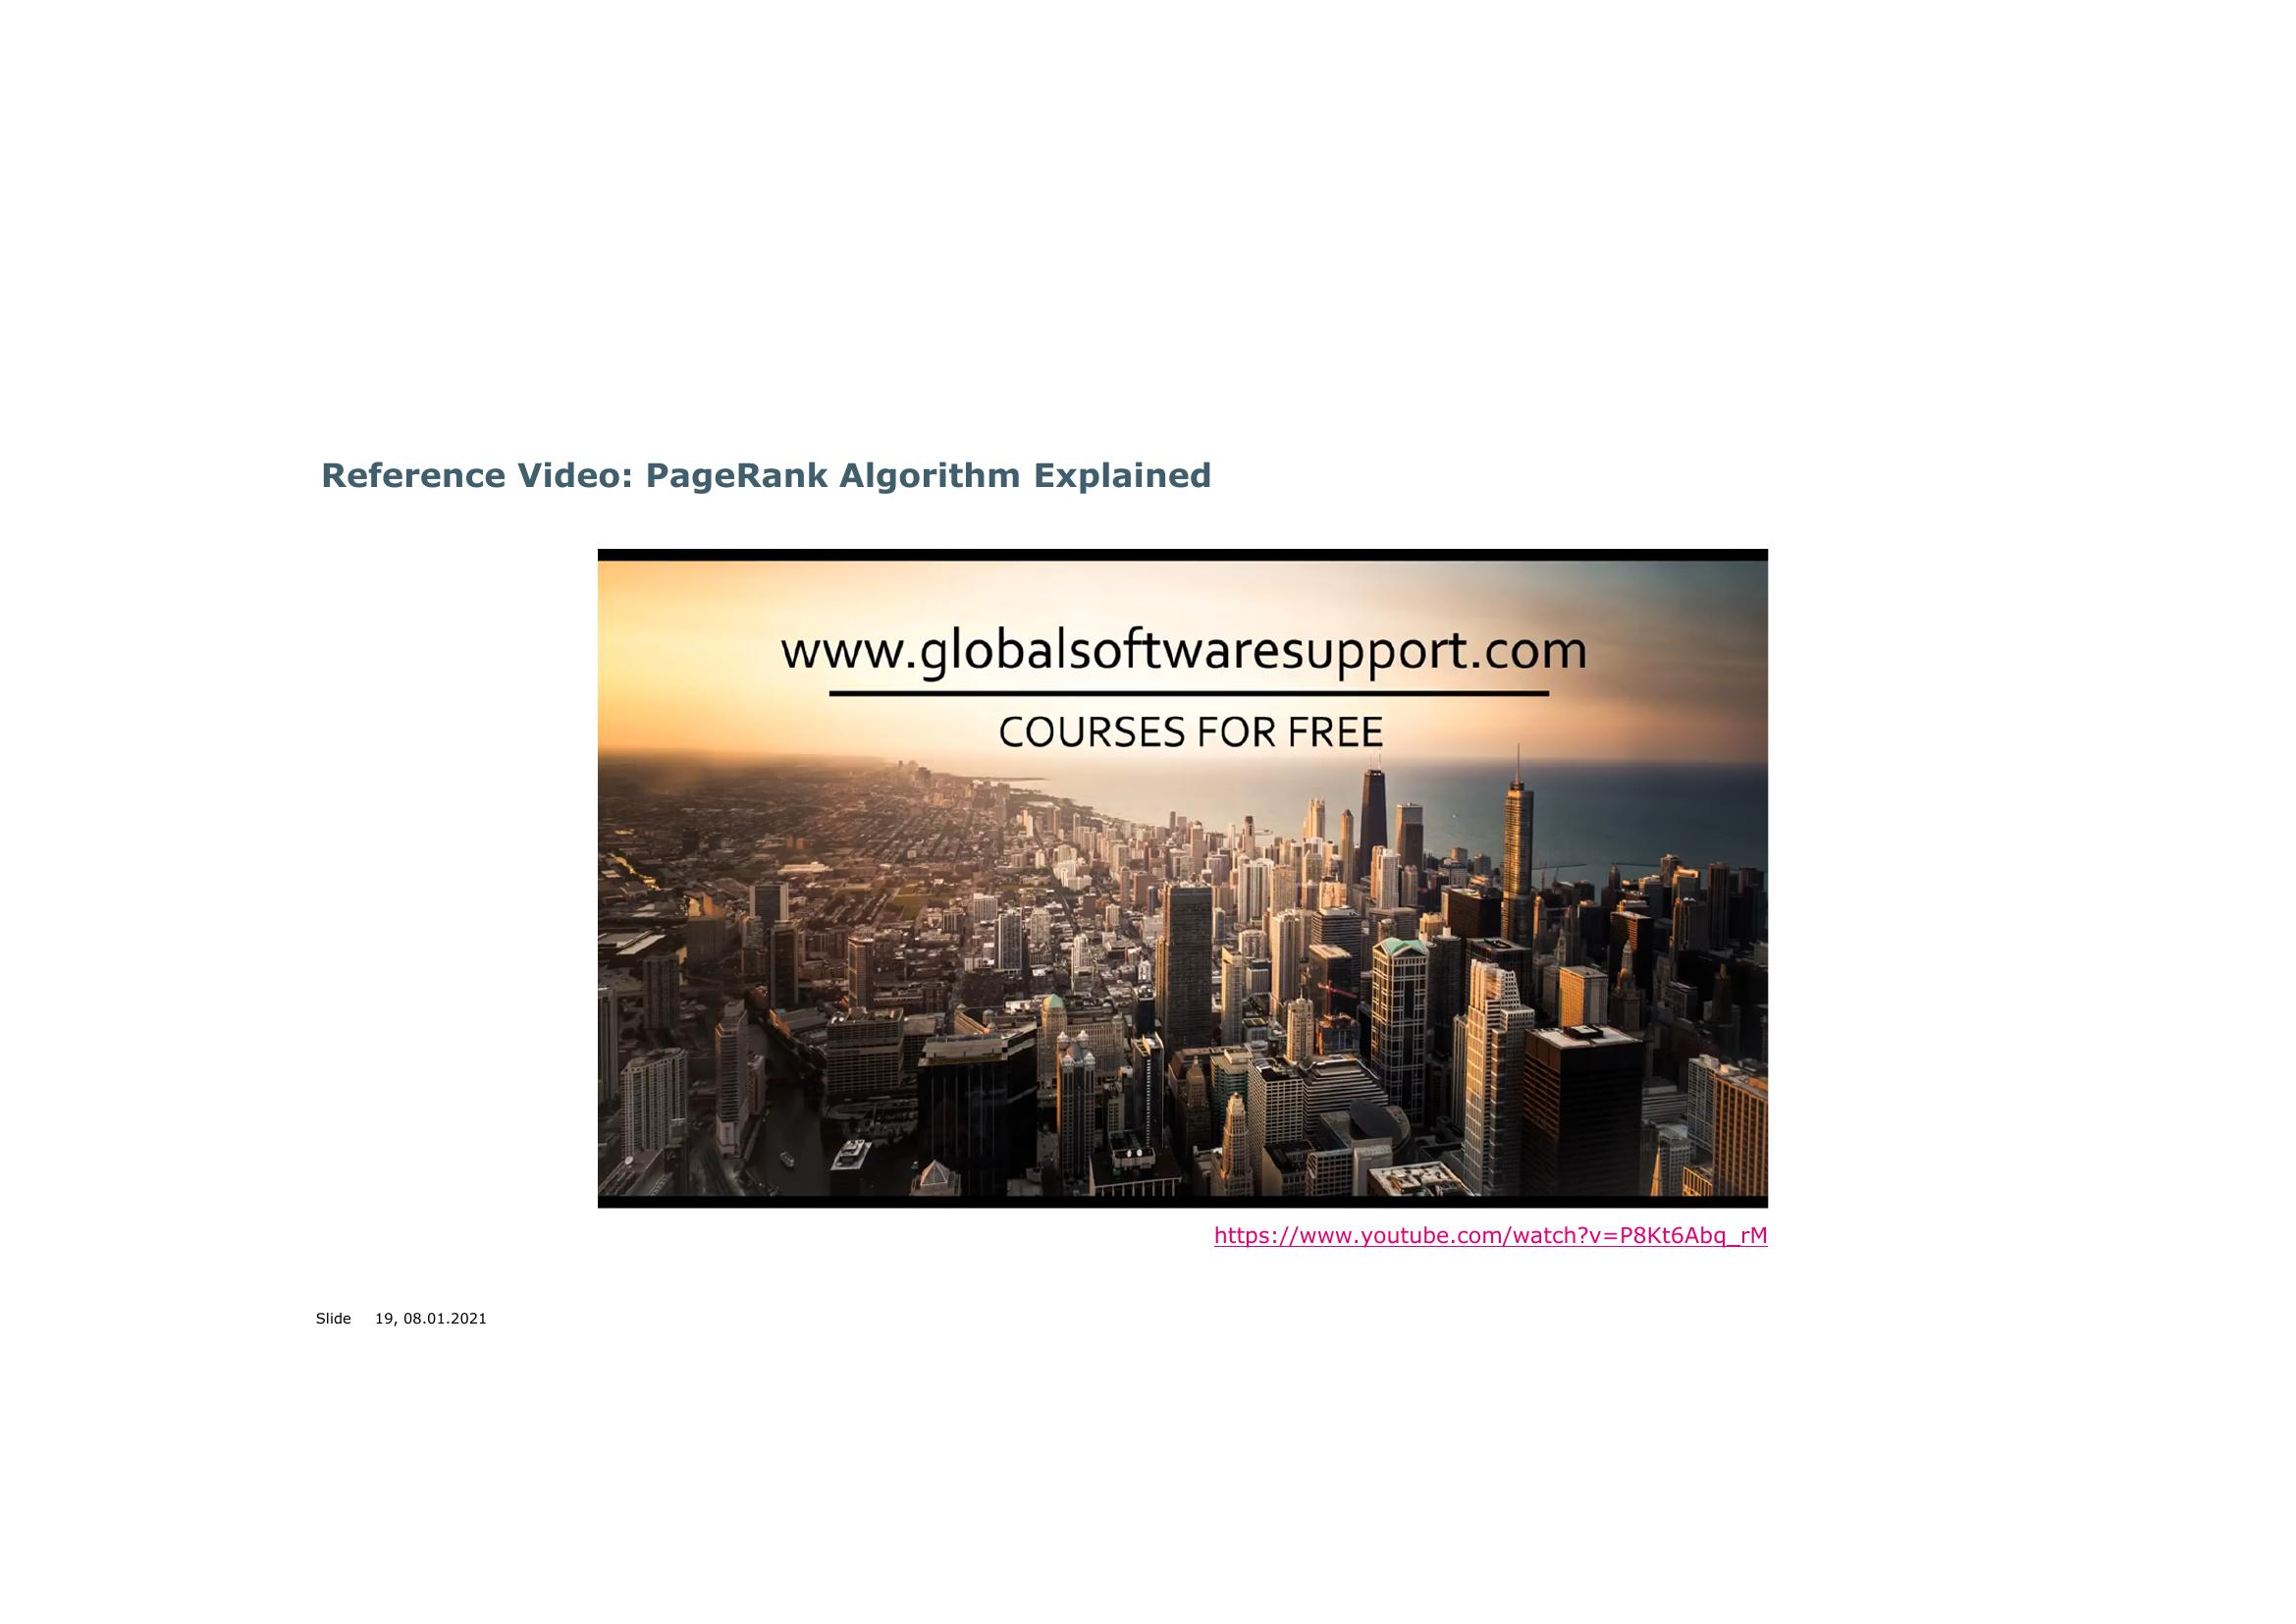Title: (306, 446, 1224, 501)
